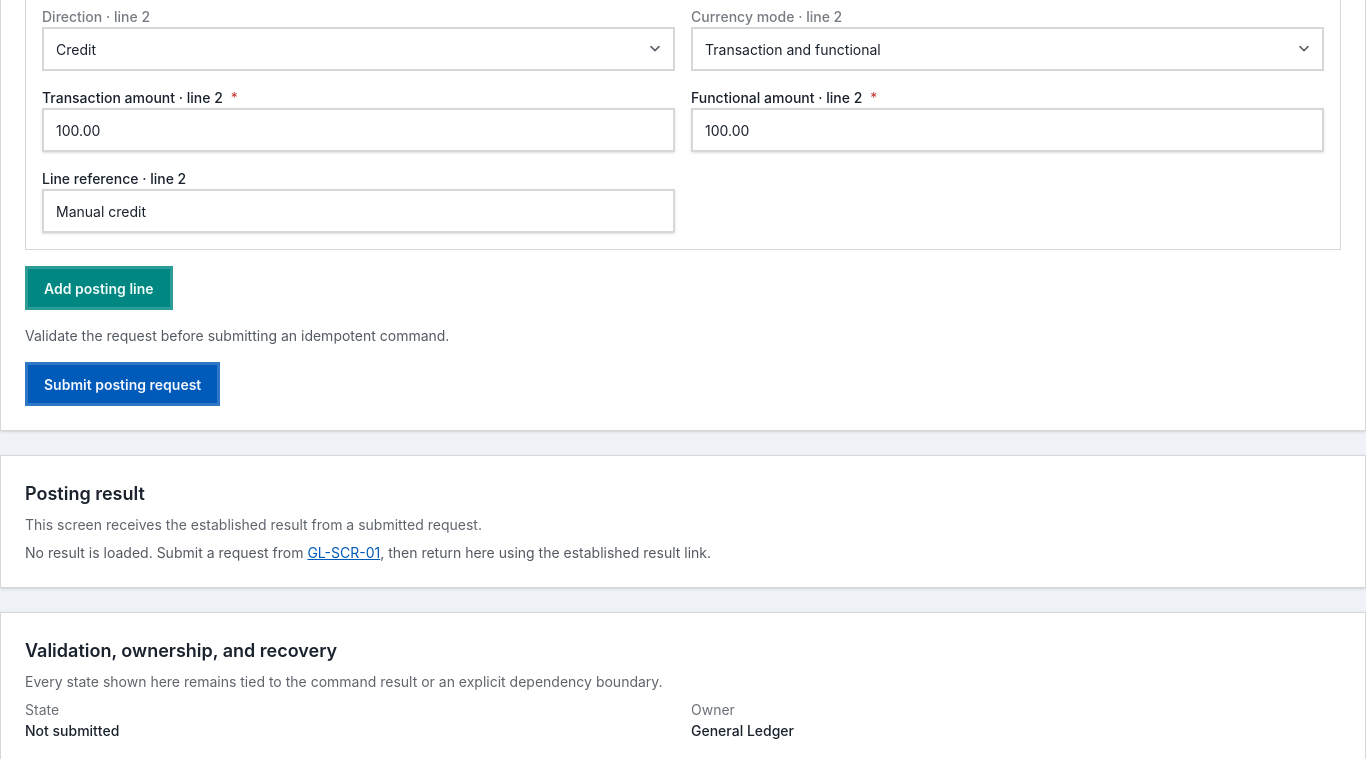
Test case: GL posting workbench › submits the typed version-2 command and renders the established result
(page scrolled)
Click the button "Submit posting request" at (123, 384), box [25, 362, 220, 406]
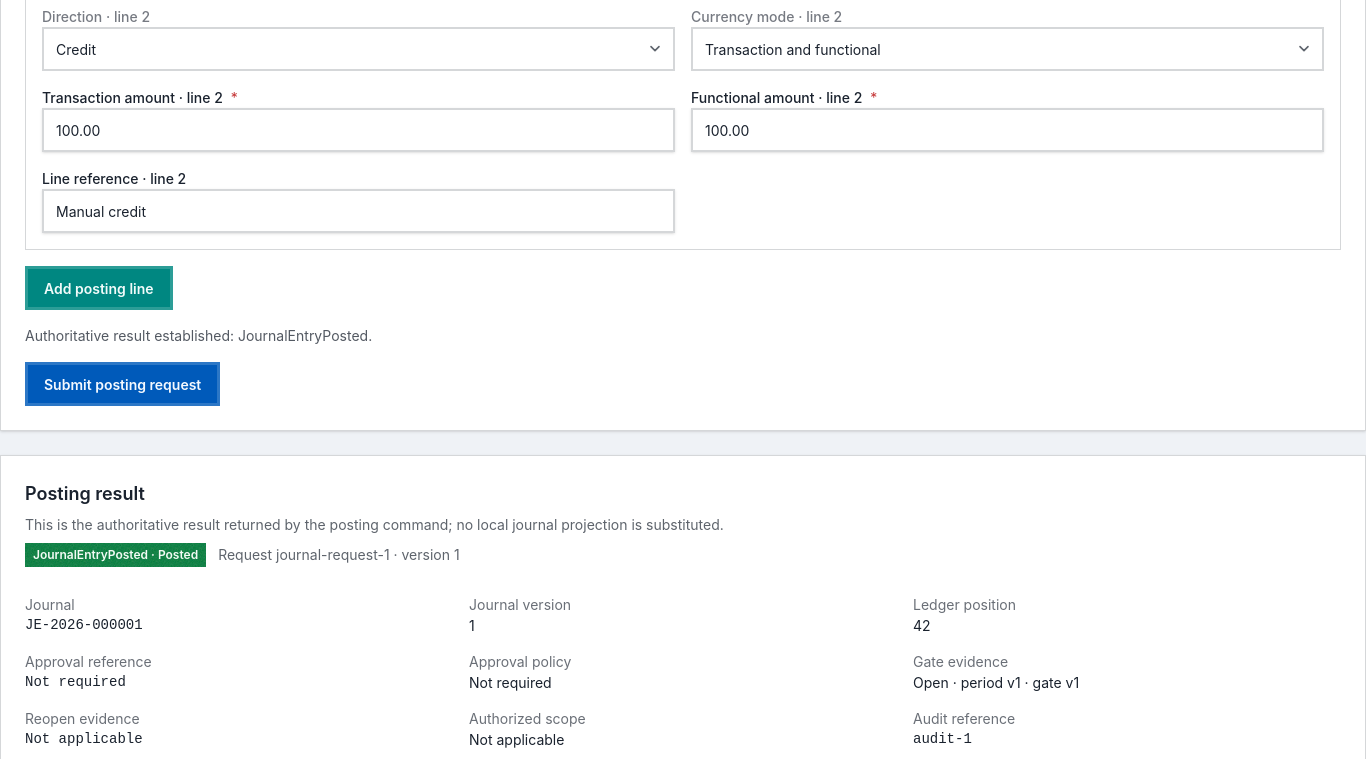
Result: the text "JE-2026-000001" is shown 2 times
